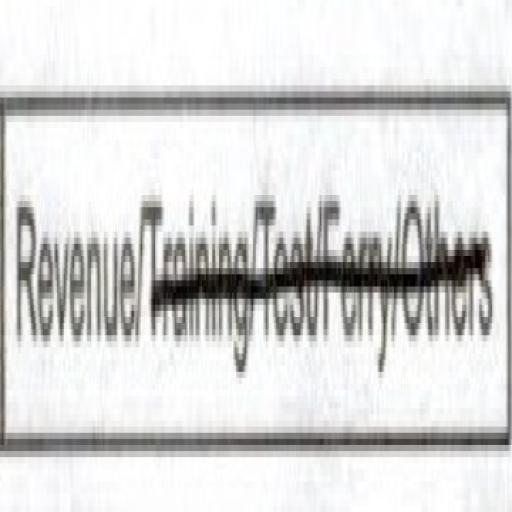check: (3, 82, 137, 436)
